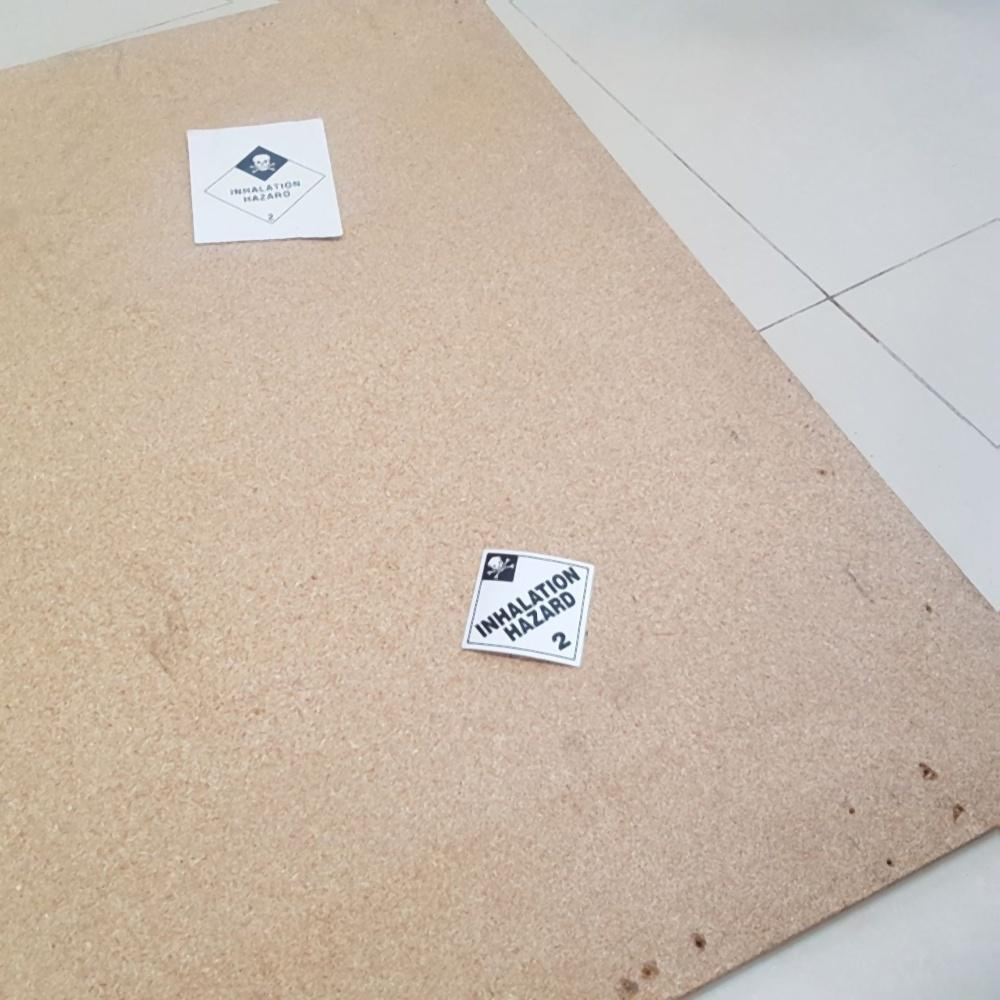poison: (461, 550, 595, 671), (203, 140, 330, 227)
